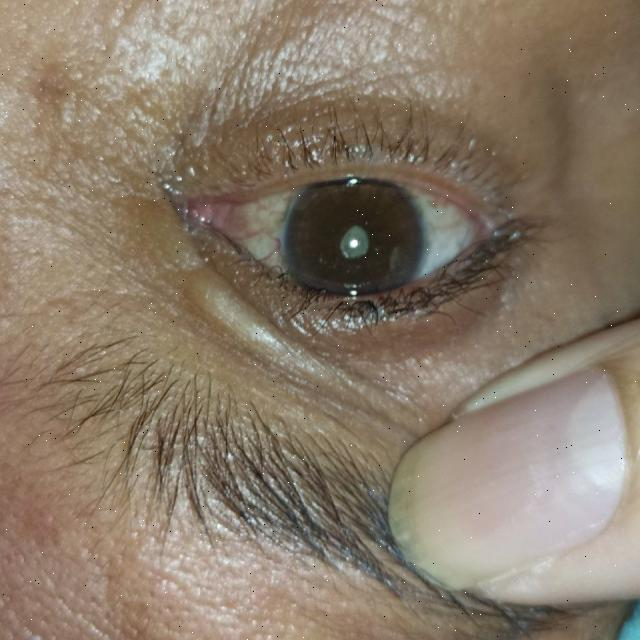Cataract: (284, 172, 424, 316)
